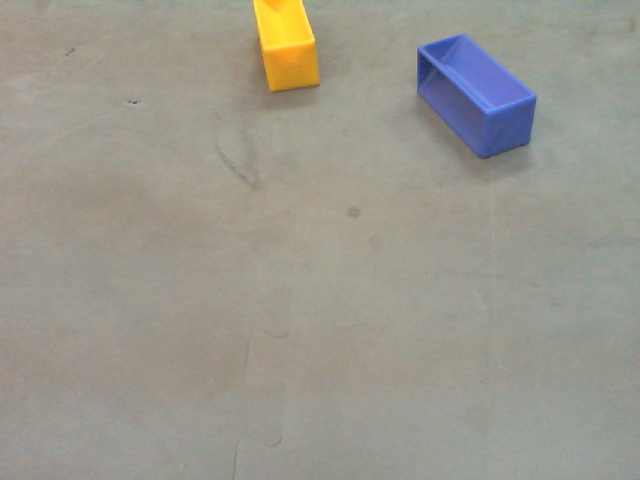BlueSample: (412, 29, 538, 162)
YellowSample: (251, 1, 324, 94)
